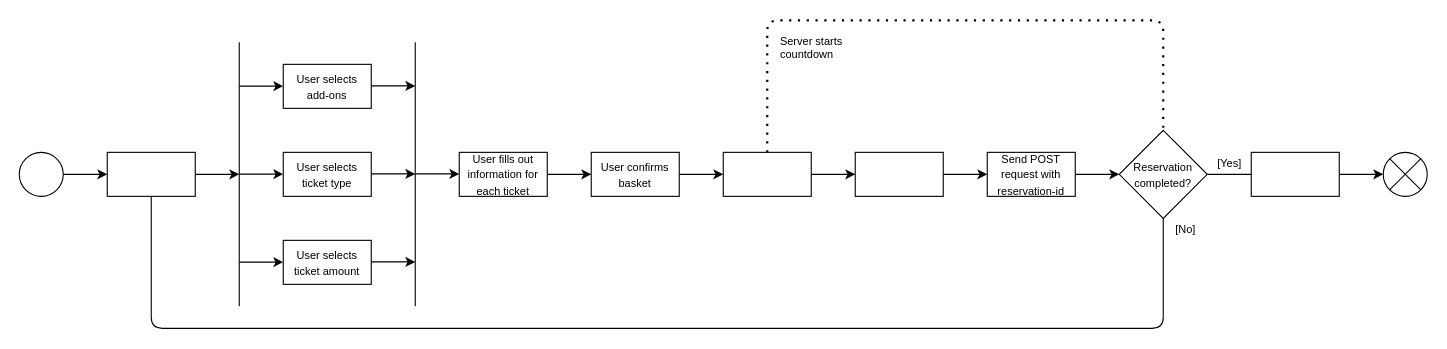
This 1447x349 diagram has some shape labels left out. The box of each missing label's shape, as (x1, y1, x2, y2) in pixels:
Send information to Supabase: (1250, 151, 1339, 196)
Send PUT request with spot and amount: 1: (722, 151, 811, 196)
User fills out billing information: (854, 151, 943, 196)
User selects camping spot: (106, 151, 195, 196)
